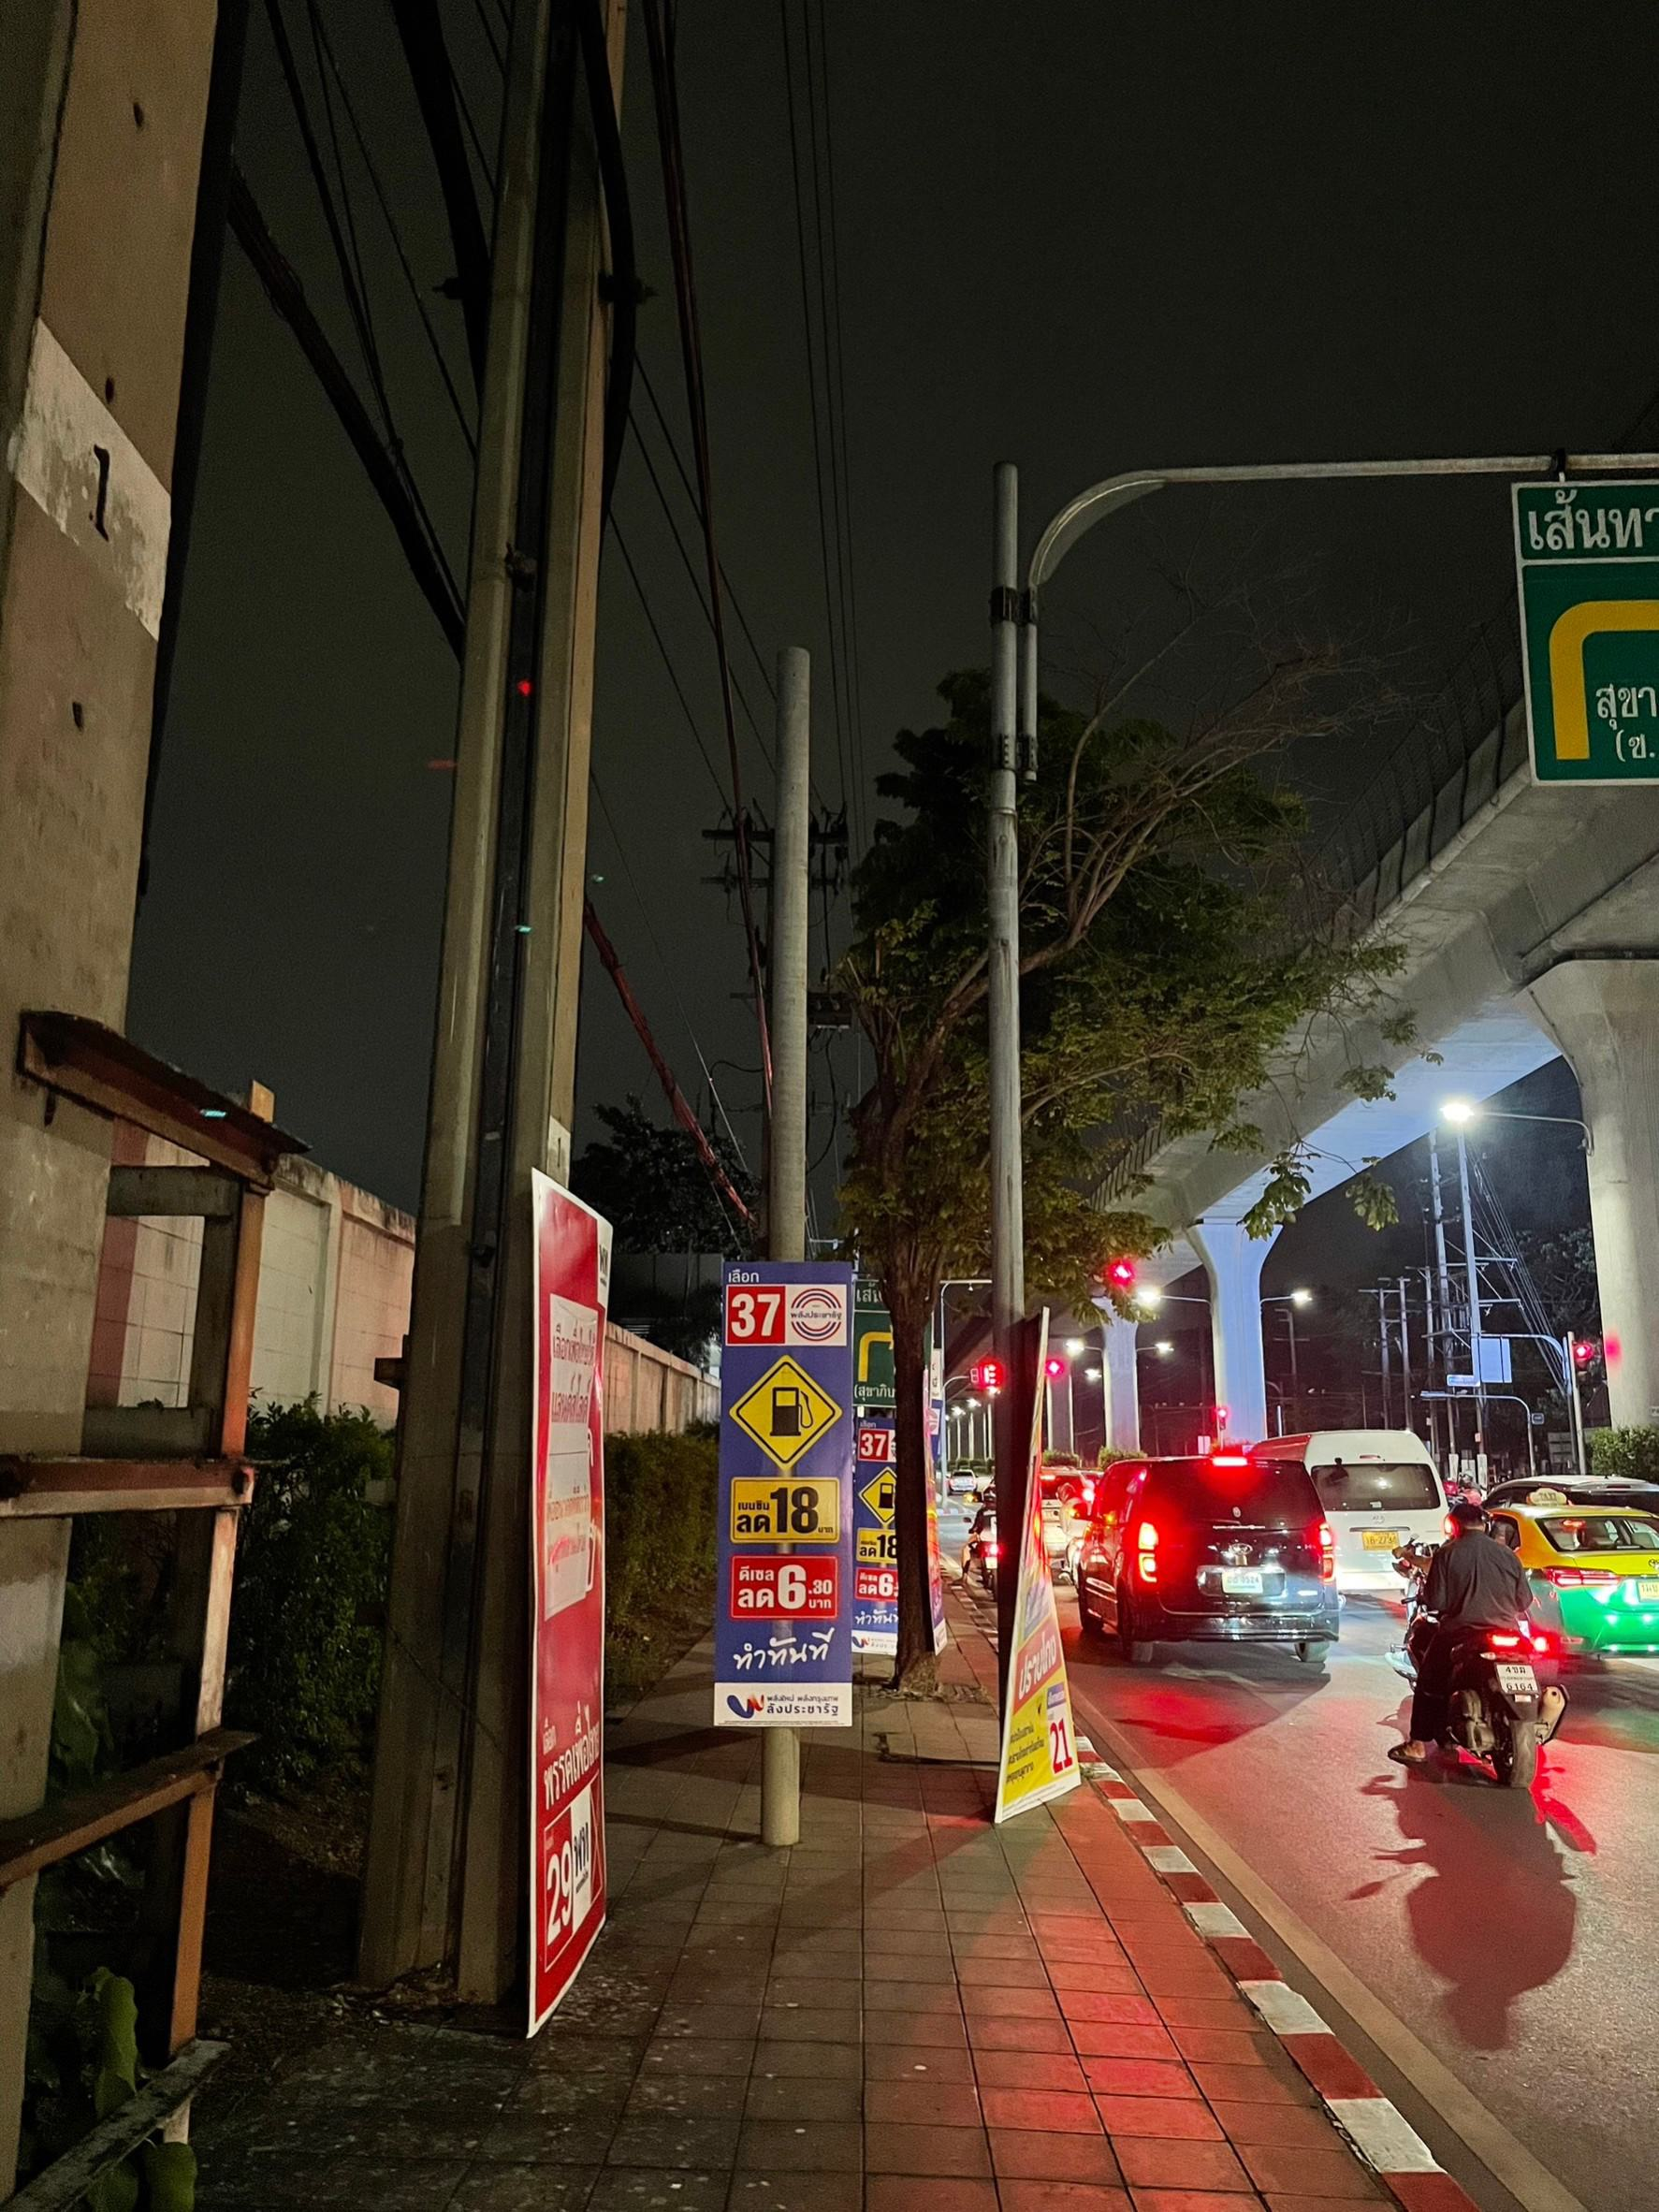Banner: (704, 1256, 868, 1757)
